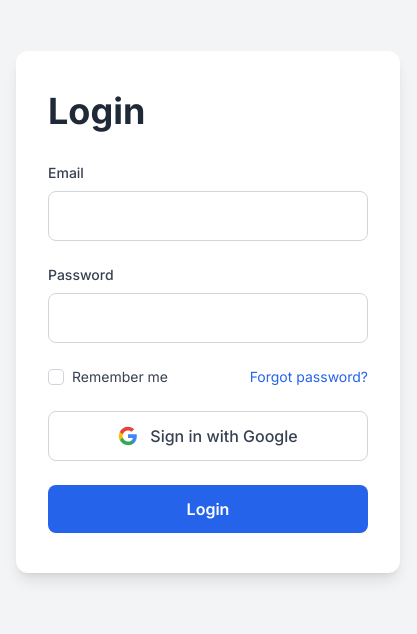
Test case: LoginPage › handles login error
The width and height of the screenshot is (417, 634).
In the field labelled "Email": x=208, y=216 [48,191,368,241], type "test@example.com"
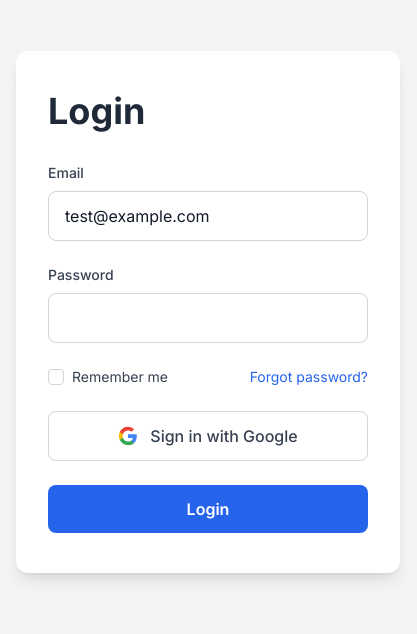
In the password field labelled "Password": x=208, y=318 [48,293,368,343], type "wrongpassword"
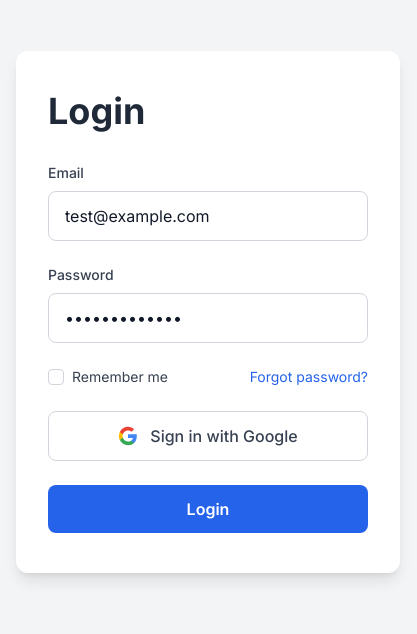
Click the button "Login": x=208, y=509 [48,485,368,533]
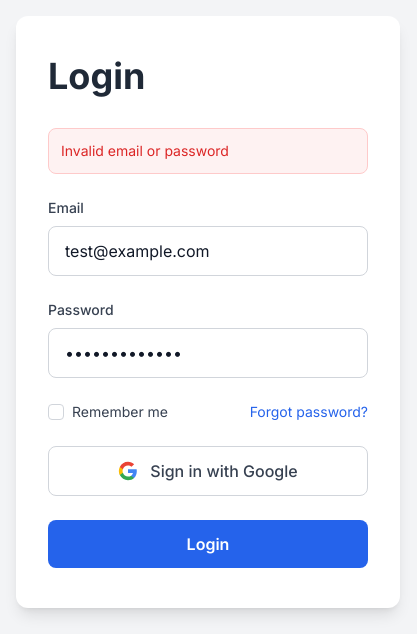
Now the text "Invalid email or password" is shown, box [61,142,229,159]
